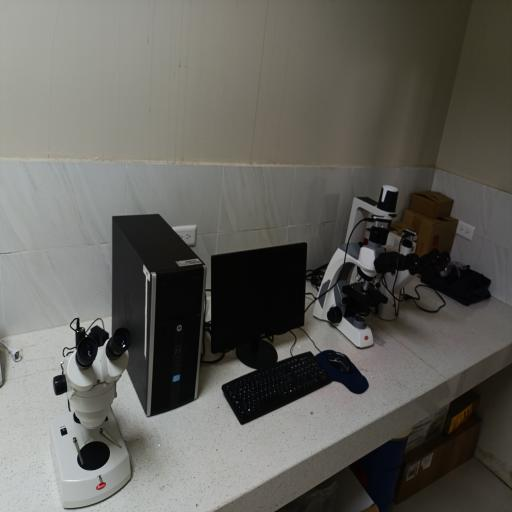Microscopio_estereo: (36, 304, 142, 512)
